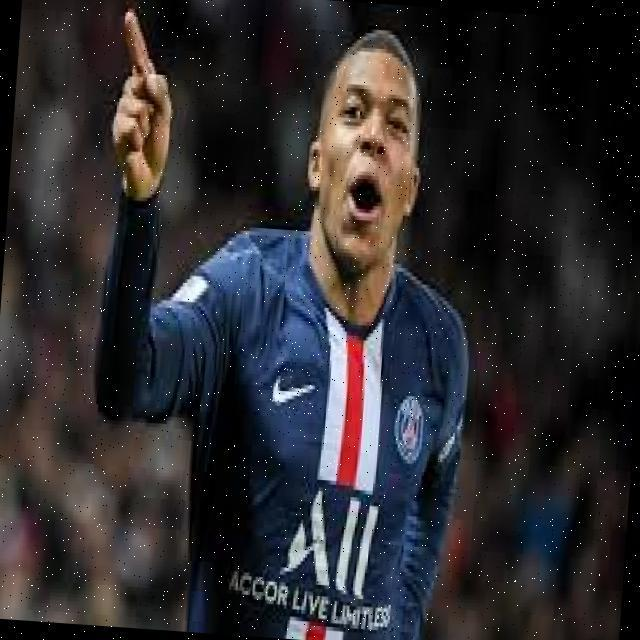Nike: (267, 367, 319, 419)
